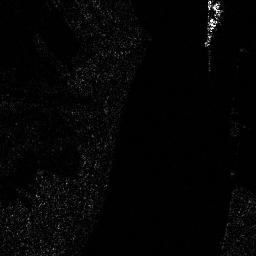ship: (203, 6, 224, 47)
